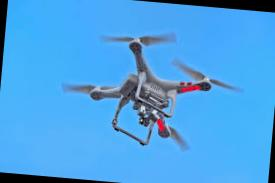drone: (55, 28, 244, 156)
